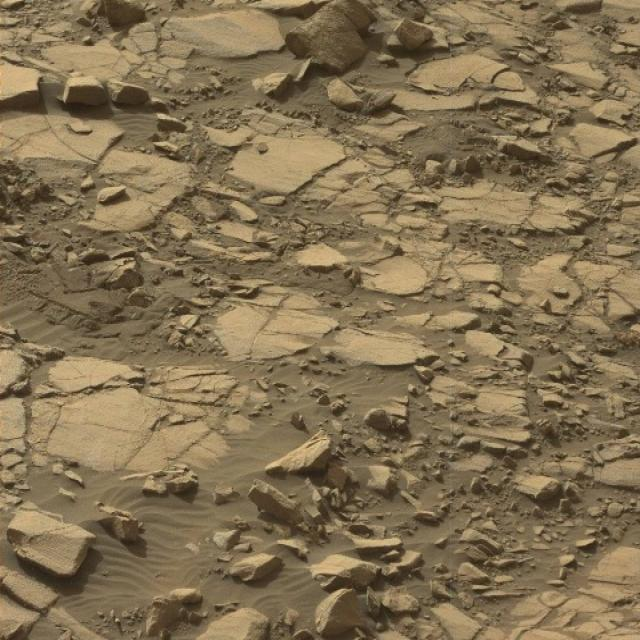rock: (2, 510, 96, 580), (0, 55, 47, 113), (315, 583, 362, 640), (58, 72, 108, 110), (110, 78, 154, 112)
